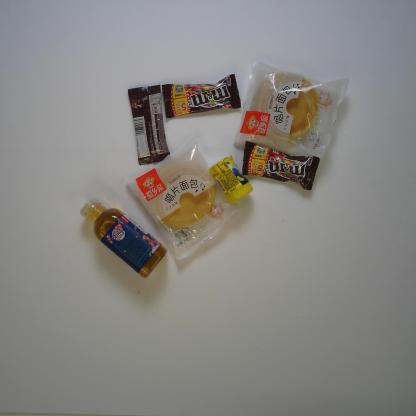Chocolate: (240, 138, 322, 191), (161, 73, 243, 121), (127, 83, 171, 167)
Dessert: (126, 138, 242, 266), (233, 58, 352, 160)
Drink: (78, 198, 170, 280)
Gum: (209, 154, 254, 206)
